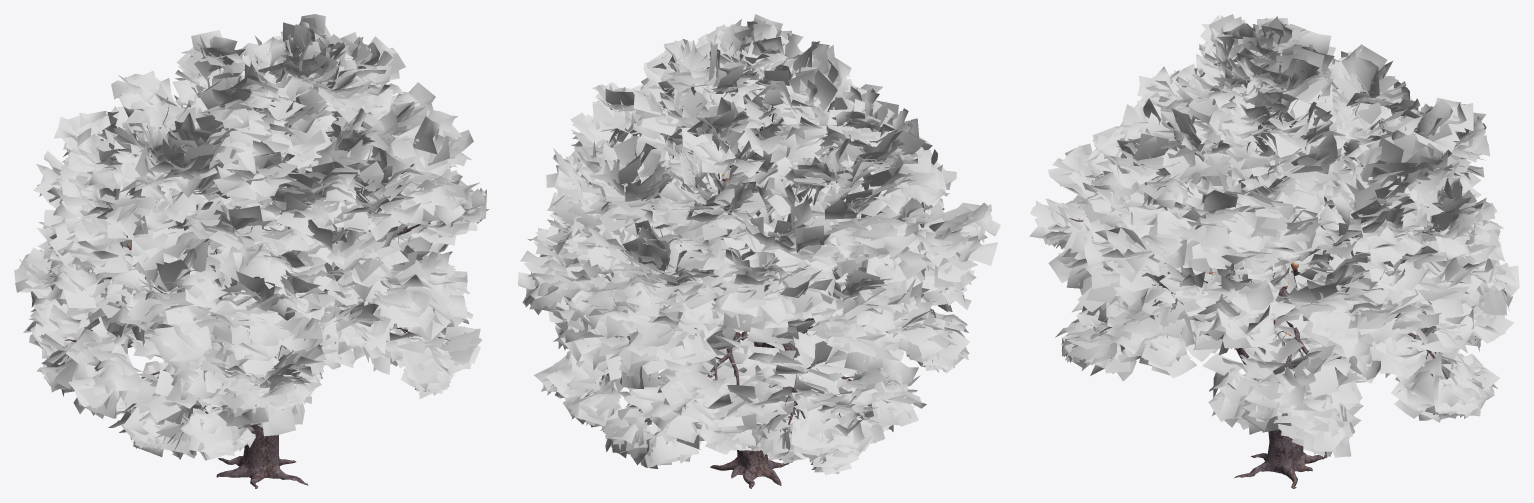
File: tree3.fbx
3 renders of one model, left to right at view 1: azimuth 30°, elevation 25°; view 2: azimuth 150°, elevation 25°; view 3: azimuth 270°, elevation 25°, orthographic. The views are drawn at different scales.
Visible parts, largest first — view 1: leaves, tree; view 2: leaves, tree; view 3: leaves, tree.
Part boxes in pixels (x1,y1,x2,y2): leaves: (14, 14, 489, 460); tree: (50, 66, 449, 488); leaves: (518, 14, 1000, 475); tree: (601, 68, 907, 488); leaves: (1029, 14, 1519, 457); tree: (1069, 92, 1449, 488).
Size of the model in its own units: 669 by 686 by 676.
